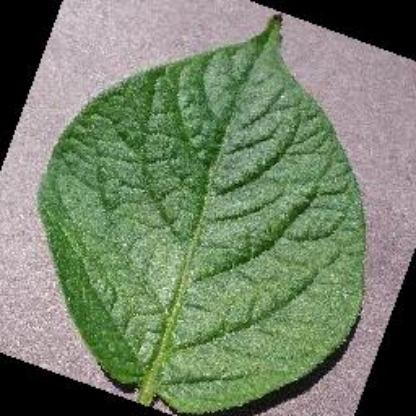Healthy-plant: (27, 5, 379, 416)
